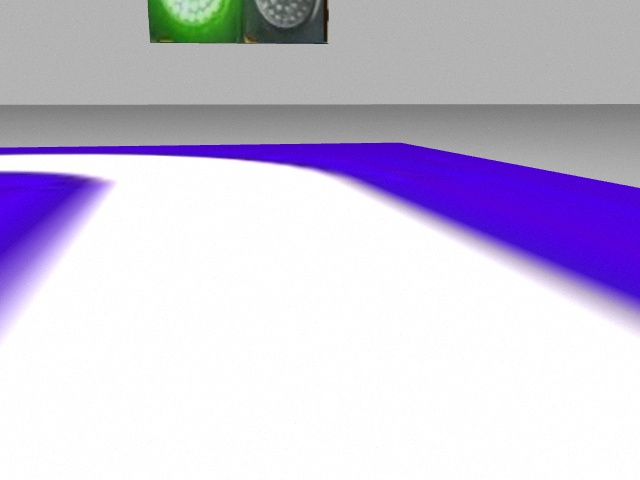green: (148, 2, 244, 41)
